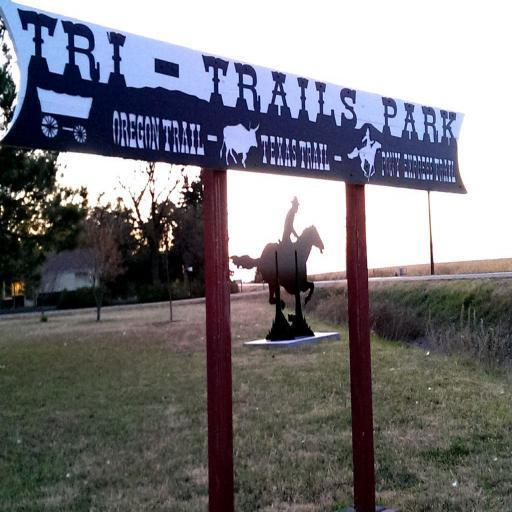horse: (226, 222, 326, 325), (347, 138, 383, 184)
